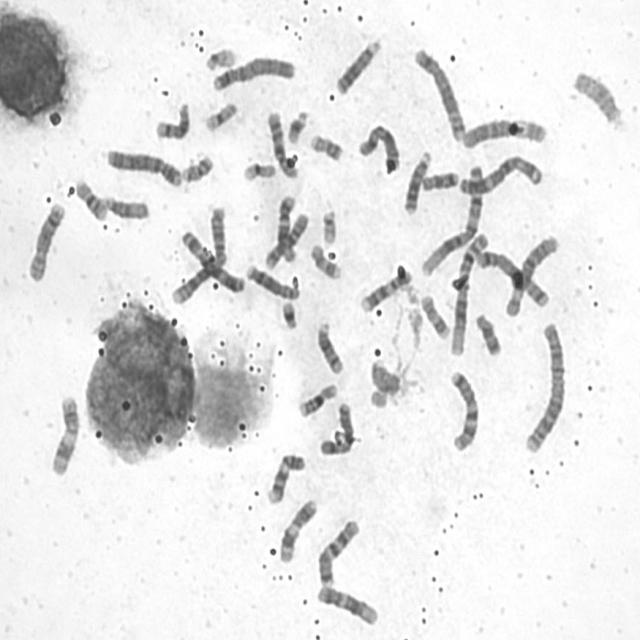A1: (418, 160, 487, 279), (447, 228, 490, 358)
A2: (520, 319, 568, 456), (168, 201, 228, 307)
A3: (178, 227, 246, 294), (455, 152, 544, 197)
B4: (102, 144, 184, 188), (209, 53, 296, 93)
B5: (410, 44, 468, 144), (472, 247, 551, 309)
C10: (262, 209, 310, 272), (263, 107, 300, 181)
C11: (276, 496, 319, 565), (47, 392, 80, 478)
C12: (313, 582, 380, 628), (274, 192, 298, 264)
C6: (502, 232, 560, 320), (459, 114, 548, 151)
C7: (314, 515, 362, 588), (446, 367, 481, 454)
C8: (24, 198, 67, 284), (242, 261, 301, 301)
C9: (357, 264, 414, 314), (264, 450, 307, 506)
D13: (332, 35, 383, 97), (400, 147, 433, 216)
D14: (313, 318, 345, 376), (152, 98, 192, 142)
D15: (570, 66, 624, 129), (100, 192, 150, 222)
E16: (72, 175, 109, 223), (294, 380, 338, 419)
E17: (418, 290, 451, 340), (307, 240, 343, 282)
E18: (472, 310, 502, 358), (418, 168, 459, 192)
F19: (201, 98, 239, 134), (240, 158, 277, 183)
F20: (306, 130, 344, 163), (179, 151, 215, 184)
G21: (284, 106, 310, 146), (278, 298, 299, 332)
G22: (202, 44, 238, 72), (318, 205, 339, 248)
X: (354, 120, 402, 175), (316, 398, 355, 458)
